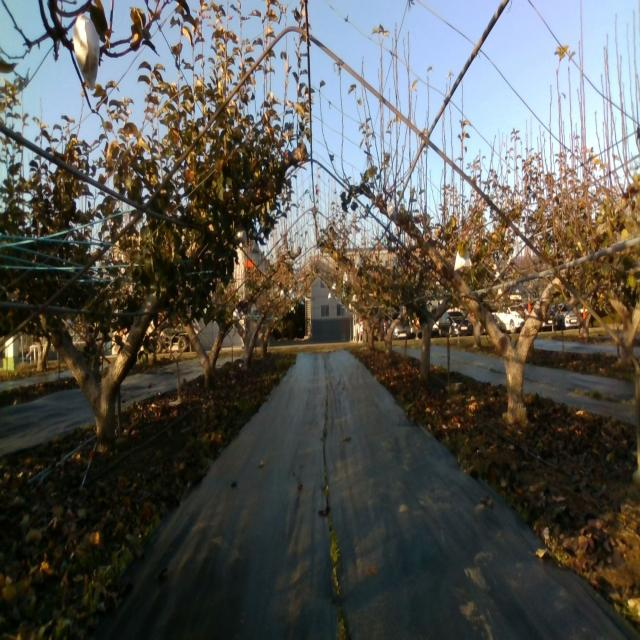pearbags: (73, 12, 100, 92), (455, 250, 472, 272), (234, 222, 248, 245), (386, 202, 396, 222)
